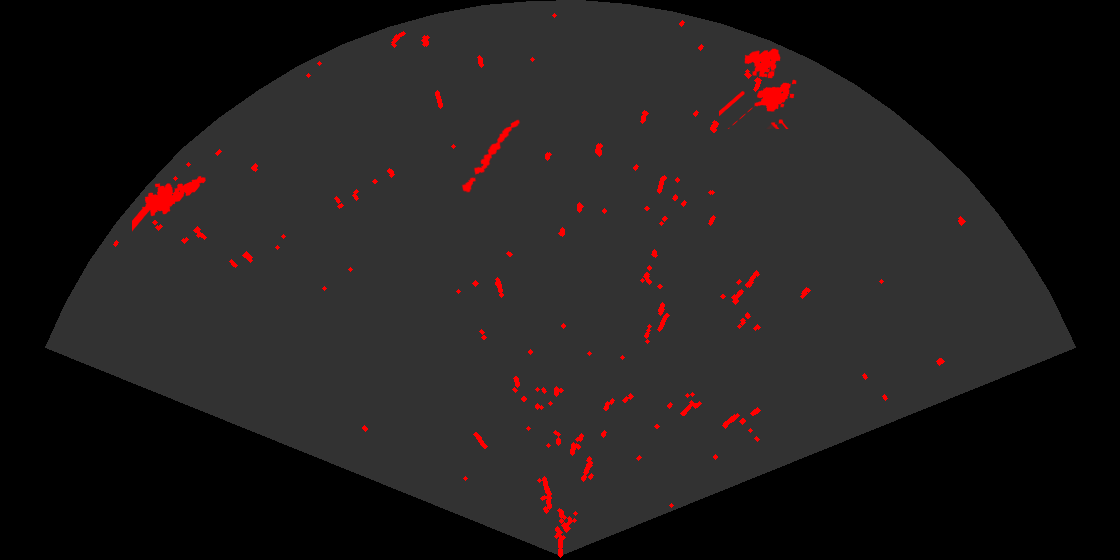cage: (719, 47, 798, 129)
chain: (460, 118, 522, 194)
frogman: (132, 174, 207, 232)
